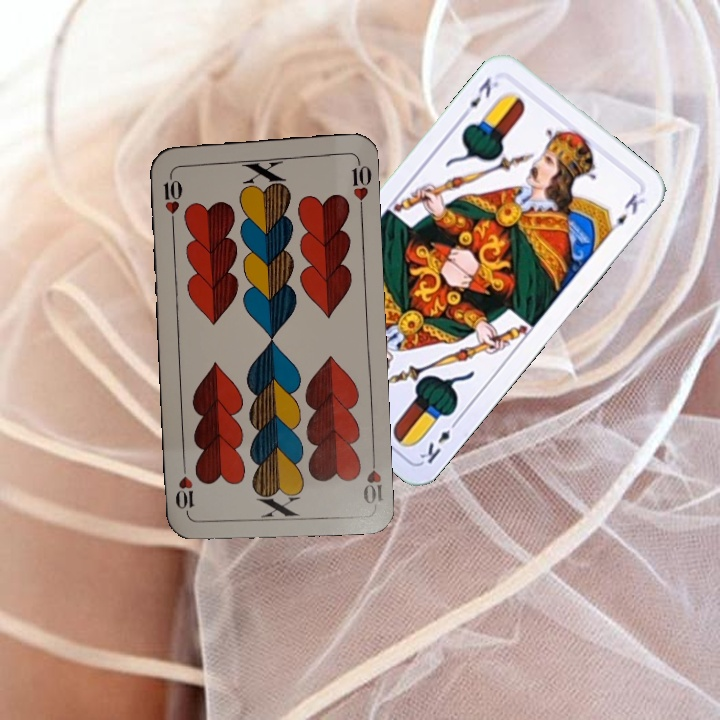EK: (415, 415, 462, 467), (457, 73, 502, 121)
H10: (159, 167, 185, 226), (359, 448, 385, 507)
